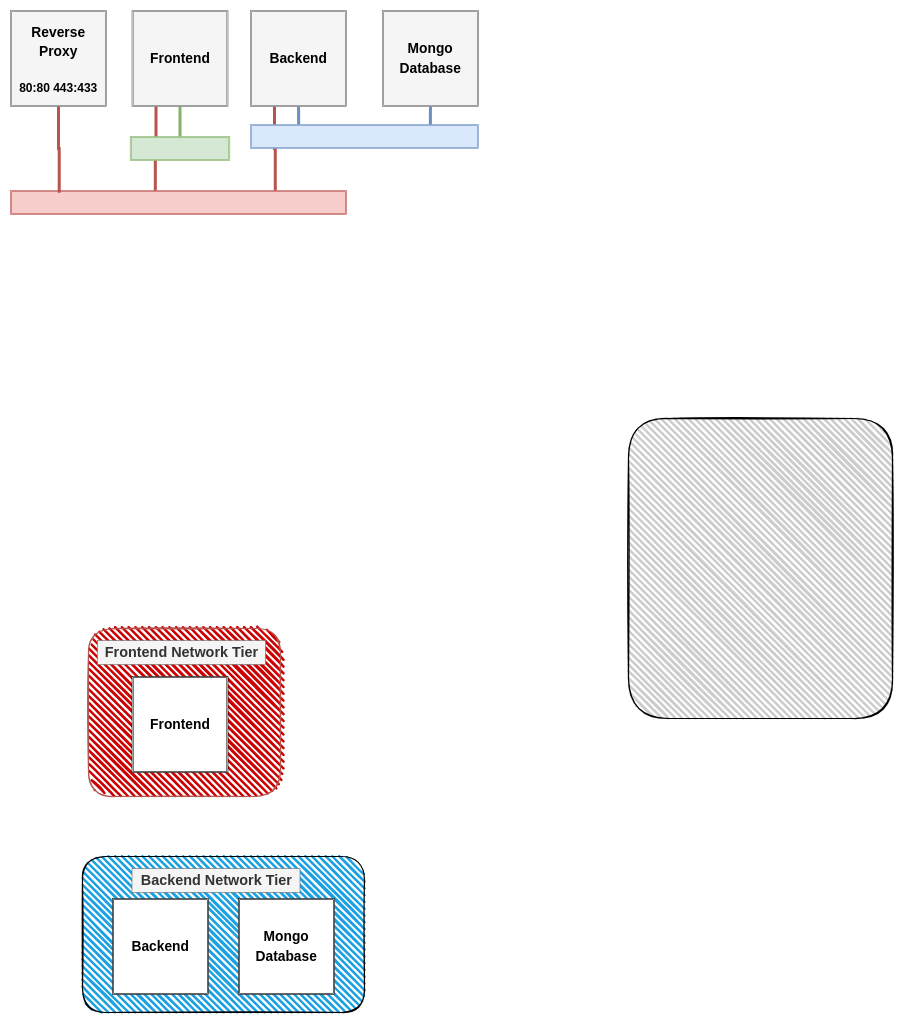
Image size: 904x1024. Some labels were removed from this diagram. Each missing label, with the box of its shape:
Backend-tier: (250, 124, 478, 148)
Frontend-tier: (130, 136, 230, 160)
reverse-proxy-tier: (10, 190, 346, 214)
